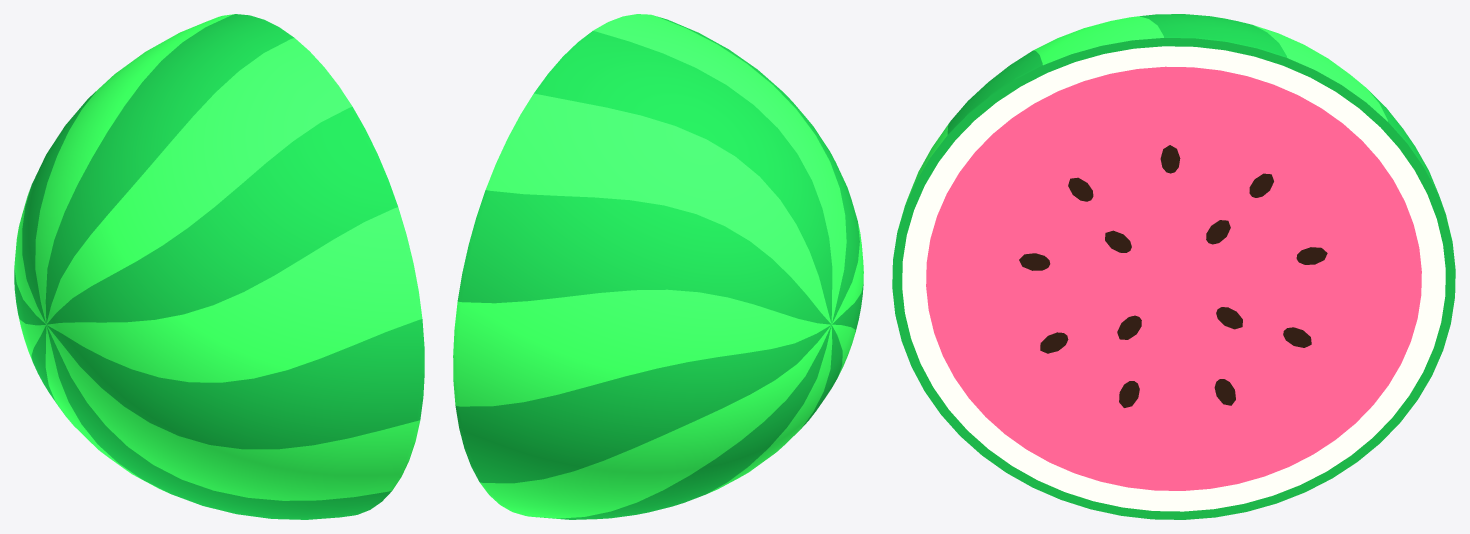
3 renders of one model, left to right at view 1: azimuth 30°, elevation 25°; view 2: azimuth 150°, elevation 25°; view 3: azimuth 270°, elevation 25°, orthographic. The views are drawn at different scales.
Parts seen in each view (by area): view 1: Watermelon-left; view 2: Watermelon-left; view 3: Watermelon-left.
Part boxes in pixels (x1=…): Watermelon-left: x1=14, y1=14, x2=424, y2=519; Watermelon-left: x1=453, y1=14, x2=863, y2=519; Watermelon-left: x1=892, y1=14, x2=1455, y2=519.
Bounding box in the file's own units: 0.0262 × 0.0471 × 0.0499.
